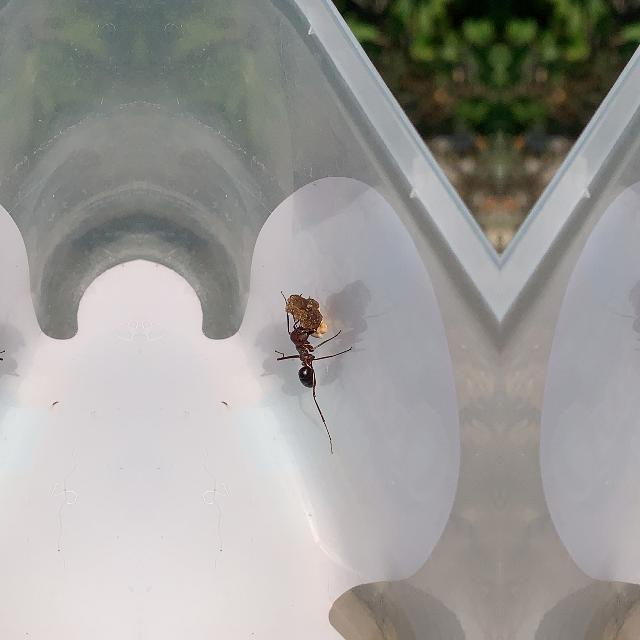Cataglyphis: (276, 278, 334, 406)
